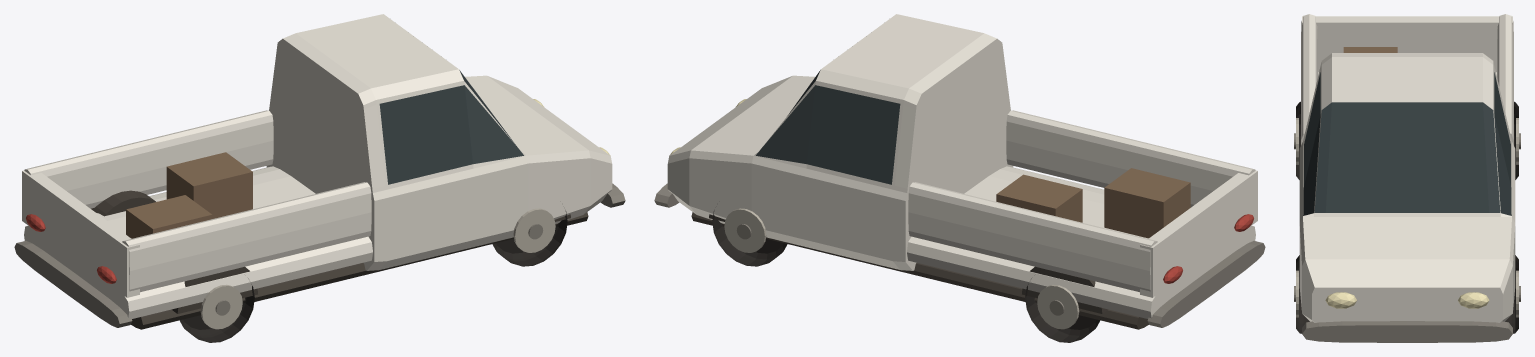
The model's file is pikap-beyaz.glb.
The picture shows the model from 3 angles, left to right: view 1: azimuth 30°, elevation 25°; view 2: azimuth 150°, elevation 25°; view 3: azimuth 270°, elevation 25°; orthographic projection.
Visible parts, largest first — view 1: a_beyaz, cam, ahsap, ic, tampon, jant, lastik, stop; view 2: a_beyaz, cam, ahsap, tampon, ic, jant, lastik, stop; view 3: a_beyaz, cam, tampon, lastik, far, jant, ahsap.
Boxes of the visible parts, x1,y1,x2,y2 form: a_beyaz: (22,14,612,318); cam: (379,70,523,184); ahsap: (126,152,252,238); ic: (91,190,588,329); tampon: (14,183,625,327); jant: (200,208,555,329); lastik: (179,210,567,342); stop: (26,214,116,283); a_beyaz: (667,14,1257,318); cam: (756,70,900,184); ahsap: (996,168,1190,238); tampon: (654,183,1265,327); ic: (691,212,1148,329); jant: (724,208,1079,329); lastik: (712,210,1100,342); stop: (1163,214,1253,283); a_beyaz: (1299,14,1515,322); cam: (1303,72,1511,215); tampon: (1294,133,1520,342); lastik: (1296,101,1518,333); far: (1325,292,1489,308); jant: (1296,118,1518,317); ahsap: (1343,47,1397,52).
Bounding box in the file's own units: 4.8 × 1.82 × 1.85.
